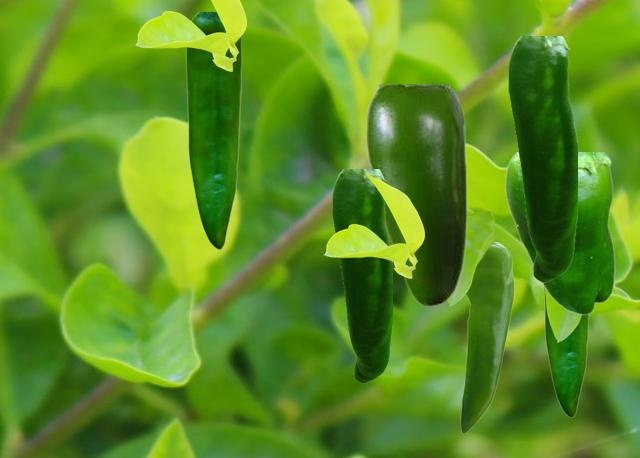green_chili: (367, 84, 466, 306), (504, 152, 614, 314), (508, 36, 576, 281), (185, 12, 241, 248), (332, 169, 391, 382), (460, 242, 513, 432), (543, 288, 589, 416)
